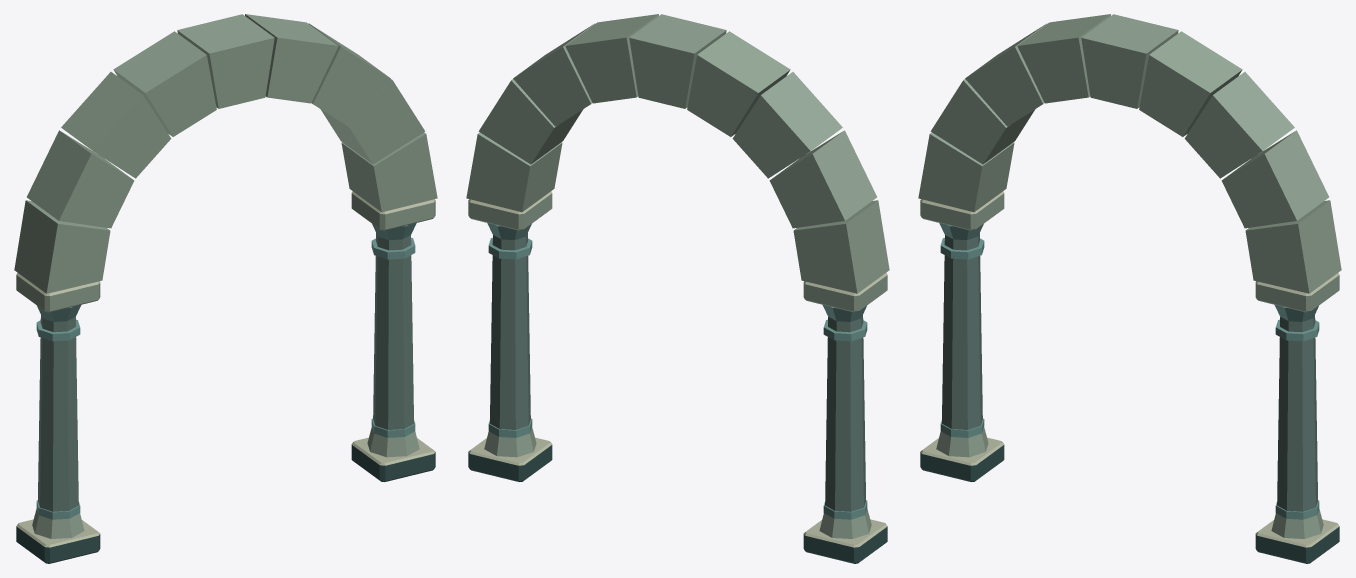
Rendered from arch-free.glb.
3 renders of one model, left to right at view 1: azimuth 30°, elevation 25°; view 2: azimuth 150°, elevation 25°; view 3: azimuth 330°, elevation 25°, orthographic.
Visible parts, largest first — view 1: arch-free__body; view 2: arch-free__body; view 3: arch-free__body.
Boxes of the visible parts, <box> form: arch-free__body: <box>14,14,437,563</box>; arch-free__body: <box>466,14,889,563</box>; arch-free__body: <box>918,14,1341,563</box>.
Bounding box in the file's own units: 2.8 × 3.23 × 0.4.
